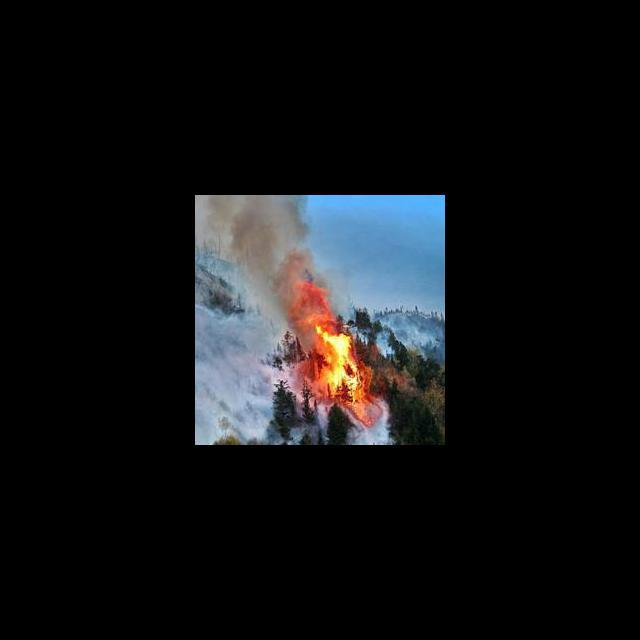Fire: (314, 325, 370, 399)
Smoke: (196, 297, 278, 444), (196, 195, 312, 280), (380, 314, 444, 356), (349, 410, 394, 444)
